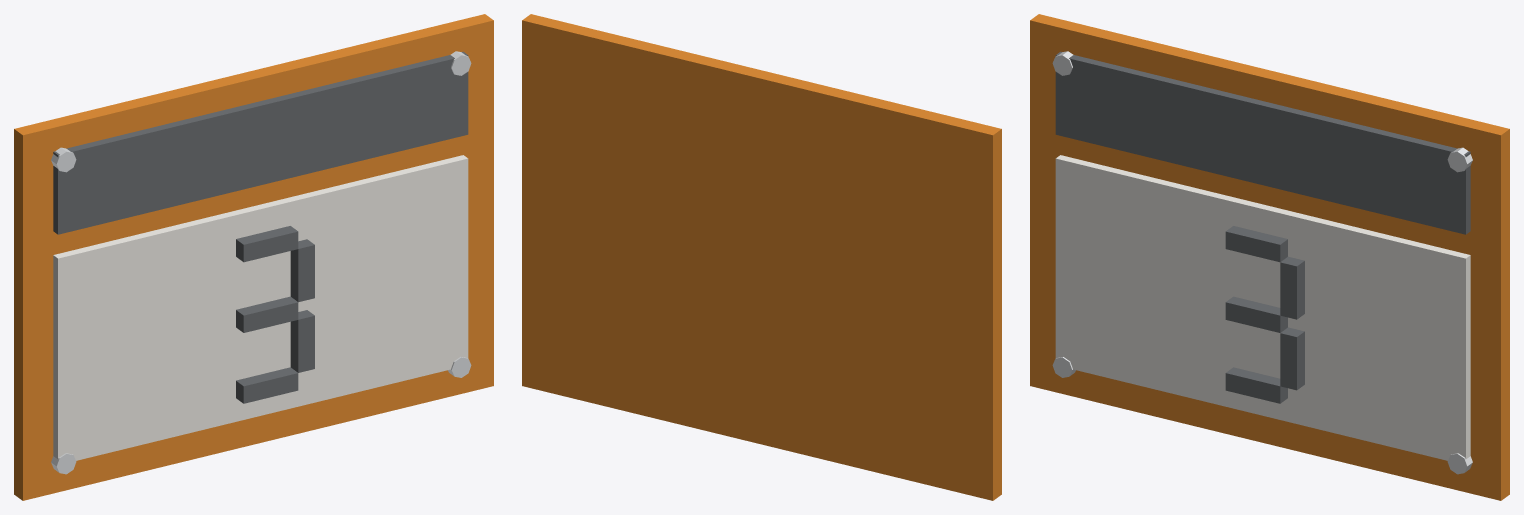
Rendered from placa-setor.glb.
3 renders of one model, left to right at view 1: azimuth 30°, elevation 25°; view 2: azimuth 150°, elevation 25°; view 3: azimuth 330°, elevation 25°, orthographic.
Parts seen in each view (by area): view 1: self-storage-facility-and-loading-bay-bay-number-sign; view 2: self-storage-facility-and-loading-bay-bay-number-sign; view 3: self-storage-facility-and-loading-bay-bay-number-sign.
Part boxes in pixels (x1,y1,x2,y2): self-storage-facility-and-loading-bay-bay-number-sign: (14,14,493,500); self-storage-facility-and-loading-bay-bay-number-sign: (522,14,1001,500); self-storage-facility-and-loading-bay-bay-number-sign: (1030,14,1509,500).
Bounding box in the file's own units: 0.62 × 0.46 × 0.049.
